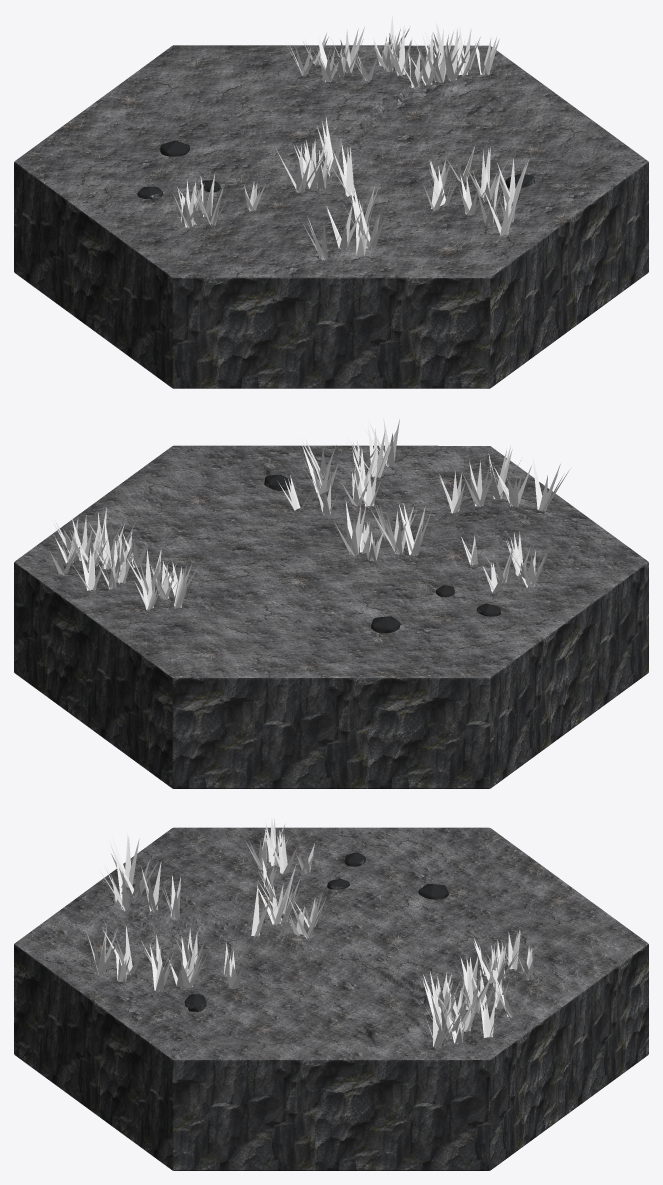
The model's file is plains.glb.
3 renders of one model, top to bottom at view 1: azimuth 30°, elevation 25°; view 2: azimuth 150°, elevation 25°; view 3: azimuth 270°, elevation 25°, orthographic.
Parts seen in each view (by area): view 1: Plains tile.005; view 2: Plains tile.005; view 3: Plains tile.005.
Boxes of the visible parts, box(x1,y1,x2,y2) form: Plains tile.005: box(14, 16, 648, 388); Plains tile.005: box(14, 418, 648, 788); Plains tile.005: box(14, 818, 648, 1170).
Bounding box in the file's own units: 1.7 × 0.5401 × 1.96.
Materials: 3 (2 with a texture image).
